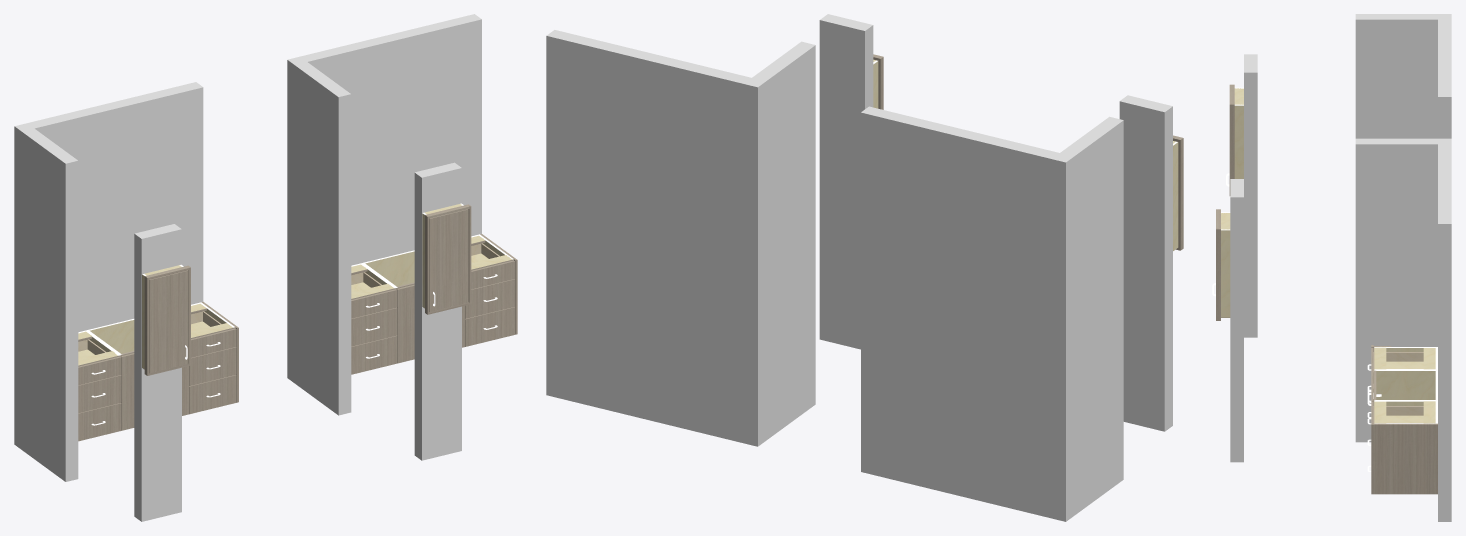
The picture shows the model from 3 angles, left to right: view 1: azimuth 30°, elevation 25°; view 2: azimuth 150°, elevation 25°; view 3: azimuth 270°, elevation 25°; orthographic projection. The views are drawn at different scales.
Visible parts, largest first — view 1: N_WALL-Sh8bf10fa0_Wall_Wall_Room_192a, N_WALL-Sh8bf10cd0_Wall_Wall_Room_2a, N_WALL-Sh8bf12cb0_Wall_Wall_Room_1a, N_WALL-Sh8bf10dc0_Wall_Wall_Room_191a, N_WALL-Sh8bf11270_Wall_Wall_Room_429a, N_WALL-Sh8bf11090_Wall_Wall_Room_381a, N_S_DSLAB-Sh7bd92b70_Door_Door_422b, N_S_DSLAB-Sh7bd9d7b0_Door_Door_470b, N_S_DSLAB-Sh7bd8fb80_Door_Door_360b, N_S_DSLAB-Sh96dc20d0_Door_Door_170b, N_S_DSLAB-Sh96dc7fe0_Door_Door_214b, N_S_DSLAB-Sh96db3ef0_Door_Door_152b (+12 smaller); view 2: N_WALL-Sh8bf10fa0_Wall_Wall_Room_192a, N_WALL-Sh8bf10cd0_Wall_Wall_Room_2a, N_WALL-Sh8bf10dc0_Wall_Wall_Room_191a, N_WALL-Sh8bf12cb0_Wall_Wall_Room_1a, N_WALL-Sh8bf11090_Wall_Wall_Room_381a, N_WALL-Sh8bf11270_Wall_Wall_Room_429a; view 3: N_WALL-Sh8bf10dc0_Wall_Wall_Room_191a, N_WALL-Sh8bf12cb0_Wall_Wall_Room_1a, N_WALL-Sh8bf10fa0_Wall_Wall_Room_192a, N_RF-Sh7bd925c0_Base_Cabinet_Assembly_311b, N_WALL-Sh8bf11090_Wall_Wall_Room_381a, N_WALL-Sh8bf11270_Wall_Wall_Room_429a, N_LU-Sh96dca3a0_Base_Cabinet_Assembly_198a, N_WALL-Sh8bf10cd0_Wall_Wall_Room_2a, N_S_RSE-Sh7bd8e4c0_Upper_Cabinet_Assembly_440a, N_S_RSE-Sh7bdb95c0_Upper_Cabinet_Assembly_392a, N_RF-Sh7bd8db00_Upper_Cabinet_Assembly_443b, N_RF-Sh7bdb9690_Upper_Cabinet_Assembly_395b (+7 smaller).
Part boxes in pixels (x1=…): N_WALL-Sh8bf10fa0_Wall_Wall_Room_192a: x1=288, y1=14, x2=481, y2=265; N_WALL-Sh8bf10cd0_Wall_Wall_Room_2a: x1=15, y1=82, x2=203, y2=332; N_WALL-Sh8bf12cb0_Wall_Wall_Room_1a: x1=14, y1=126, x2=78, y2=481; N_WALL-Sh8bf10dc0_Wall_Wall_Room_191a: x1=287, y1=59, x2=351, y2=415; N_WALL-Sh8bf11270_Wall_Wall_Room_429a: x1=414, y1=162, x2=461, y2=460; N_WALL-Sh8bf11090_Wall_Wall_Room_381a: x1=134, y1=224, x2=181, y2=521; N_S_DSLAB-Sh7bd92b70_Door_Door_422b: x1=150, y1=271, x2=188, y2=372; N_S_DSLAB-Sh7bd9d7b0_Door_Door_470b: x1=430, y1=209, x2=468, y2=311; N_S_DSLAB-Sh7bd8fb80_Door_Door_360b: x1=465, y1=307, x2=514, y2=346; N_S_DSLAB-Sh96dc20d0_Door_Door_170b: x1=189, y1=375, x2=236, y2=413; N_S_DSLAB-Sh96dc7fe0_Door_Door_214b: x1=397, y1=286, x2=414, y2=363; N_S_DSLAB-Sh96db3ef0_Door_Door_152b: x1=189, y1=347, x2=236, y2=385; N_WALL-Sh8bf10fa0_Wall_Wall_Room_192a: x1=546, y1=30, x2=757, y2=446; N_WALL-Sh8bf10cd0_Wall_Wall_Room_2a: x1=861, y1=106, x2=1065, y2=521; N_WALL-Sh8bf10dc0_Wall_Wall_Room_191a: x1=752, y1=41, x2=815, y2=446; N_WALL-Sh8bf12cb0_Wall_Wall_Room_1a: x1=1060, y1=116, x2=1123, y2=521; N_WALL-Sh8bf11090_Wall_Wall_Room_381a: x1=1119, y1=95, x2=1172, y2=431; N_WALL-Sh8bf11270_Wall_Wall_Room_429a: x1=819, y1=14, x2=873, y2=349; N_WALL-Sh8bf10dc0_Wall_Wall_Room_191a: x1=1355, y1=138, x2=1450, y2=442; N_WALL-Sh8bf12cb0_Wall_Wall_Room_1a: x1=1355, y1=14, x2=1450, y2=138; N_WALL-Sh8bf10fa0_Wall_Wall_Room_192a: x1=1438, y1=138, x2=1451, y2=521; N_RF-Sh7bd925c0_Base_Cabinet_Assembly_311b: x1=1371, y1=423, x2=1437, y2=494; N_WALL-Sh8bf11090_Wall_Wall_Room_381a: x1=1244, y1=54, x2=1257, y2=337; N_WALL-Sh8bf11270_Wall_Wall_Room_429a: x1=1230, y1=179, x2=1243, y2=462; N_LU-Sh96dca3a0_Base_Cabinet_Assembly_198a: x1=1376, y1=371, x2=1435, y2=399; N_WALL-Sh8bf10cd0_Wall_Wall_Room_2a: x1=1438, y1=14, x2=1451, y2=138; N_S_RSE-Sh7bd8e4c0_Upper_Cabinet_Assembly_440a: x1=1221, y1=230, x2=1230, y2=317; N_S_RSE-Sh7bdb95c0_Upper_Cabinet_Assembly_392a: x1=1234, y1=105, x2=1243, y2=178; N_RF-Sh7bd8db00_Upper_Cabinet_Assembly_443b: x1=1216, y1=228, x2=1220, y2=320; N_RF-Sh7bdb9690_Upper_Cabinet_Assembly_395b: x1=1230, y1=103, x2=1234, y2=195.
Bounding box in the file's own units: 163 × 108 × 78.67.
